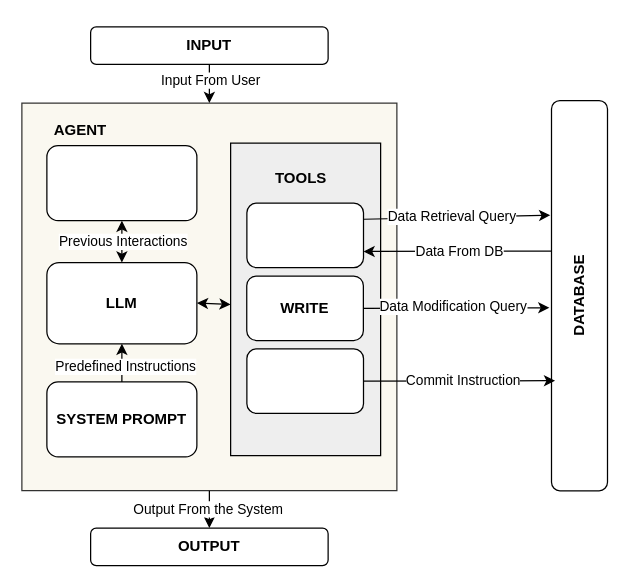
Some shapes in this 630 by 588 pixel diagram are drawn without their labels. The shapes that lost their labels are listed below. From the top down, each one's centre as x and y in pixels, then its label:
At point 121,182: "MEMORY".
At point 305,235: "READ".
At point 305,380: "COMMIT".
